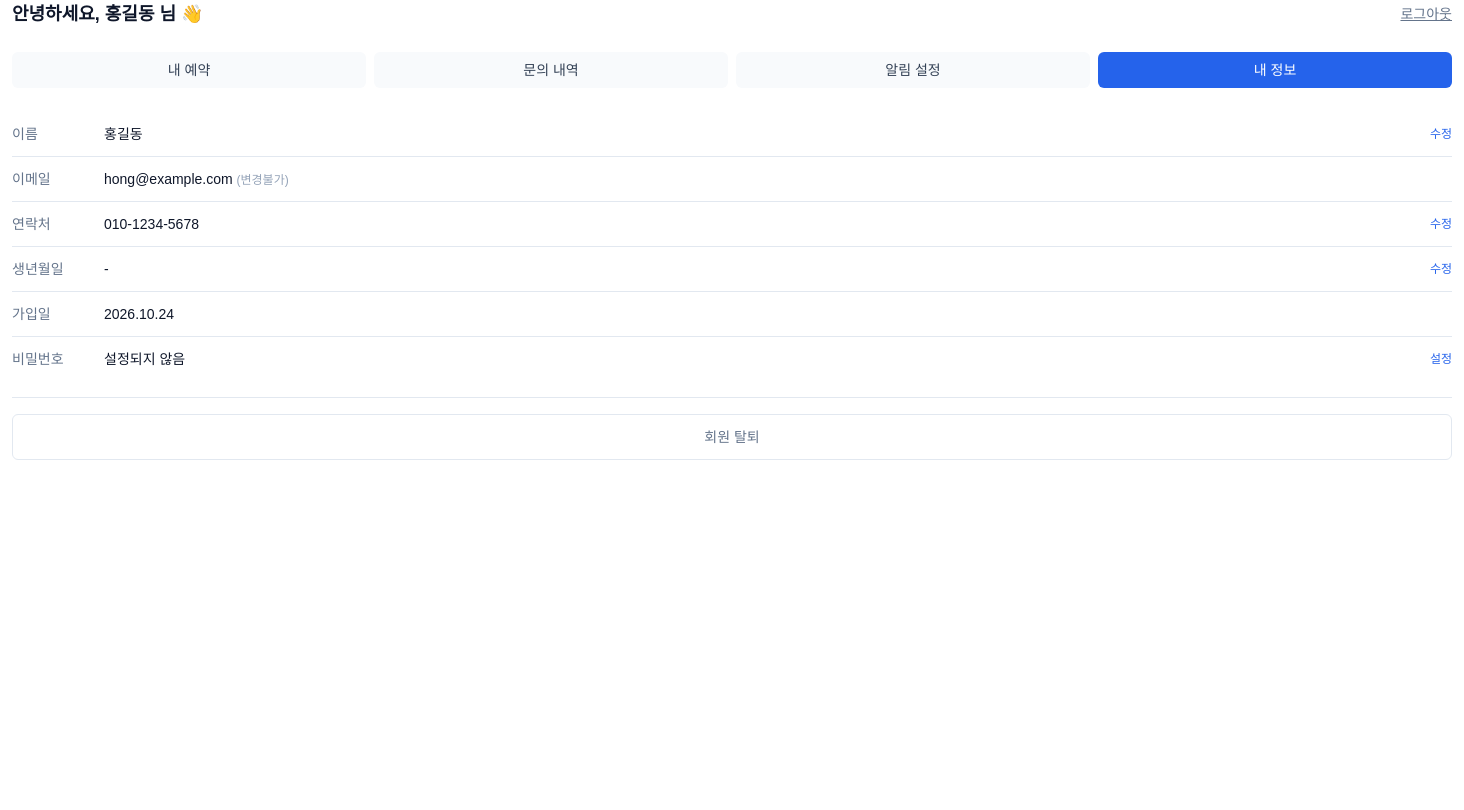
Test: 내 정보 › 소셜 가입자 첫 비밀번호 — 휴대폰 인증 안내
Click the button "설정" at (1441, 359), box [1430,351,1452,367]
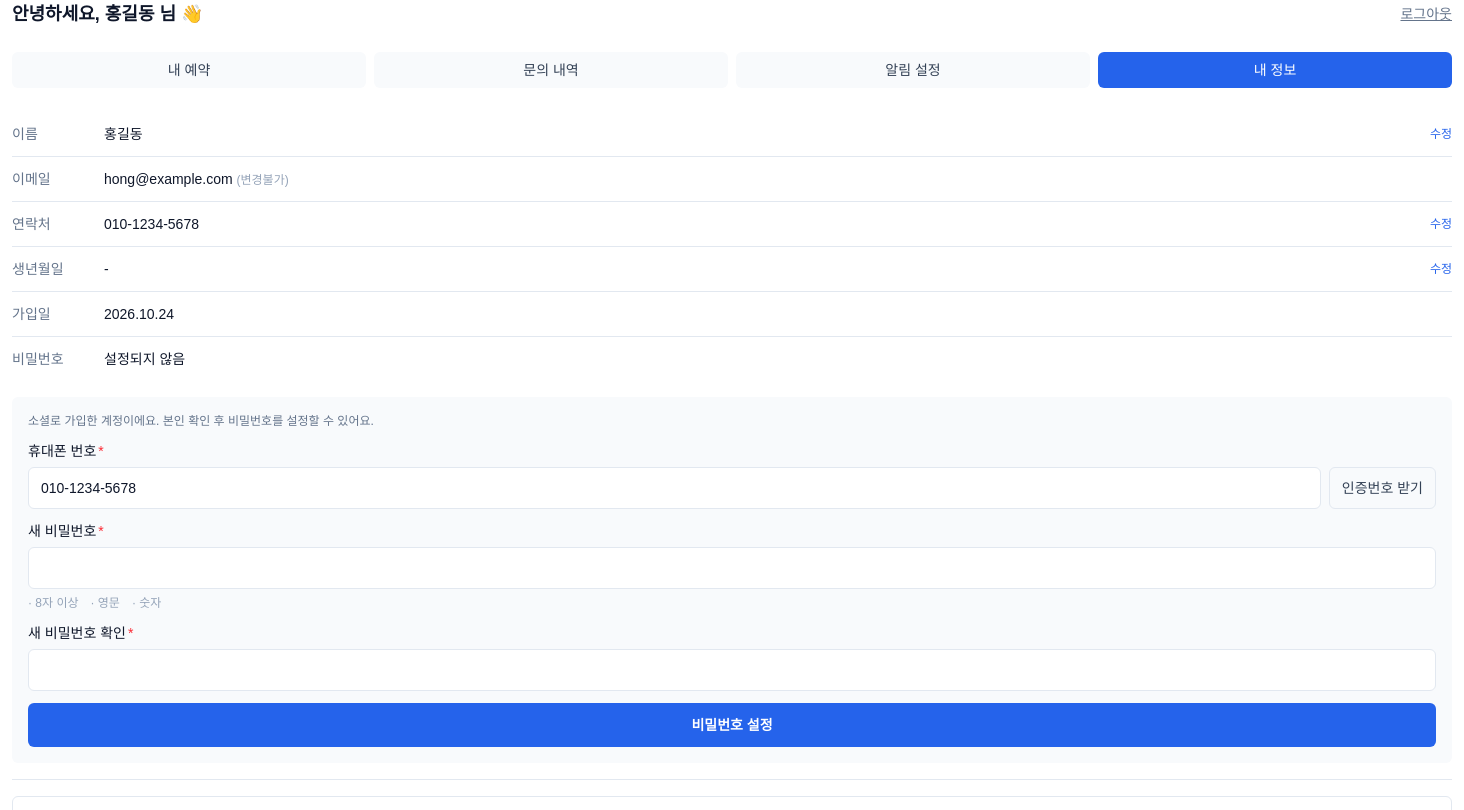
expect the text "소셜로 가입한 계정이에요. 본인 확인 후 비밀번호를 설정할 수 있어요." is shown: met, box [28,414,374,428]
